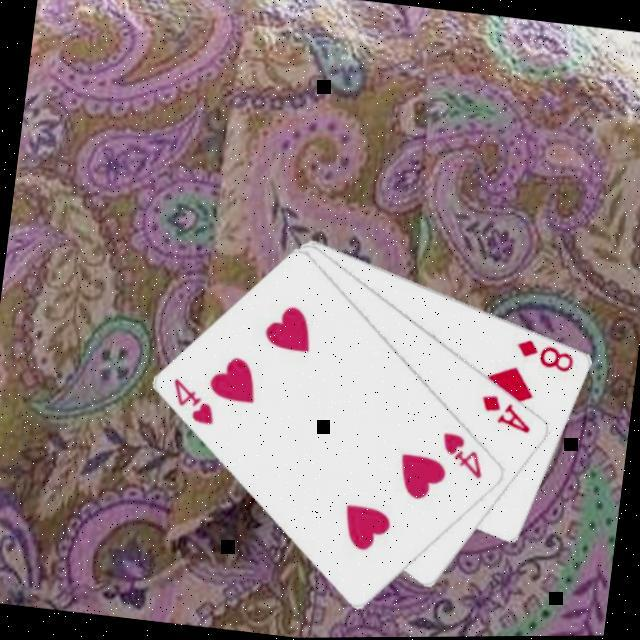4H: (434, 427, 490, 483), (164, 373, 220, 427)
8D: (510, 334, 578, 376)
AD: (474, 389, 536, 436)
